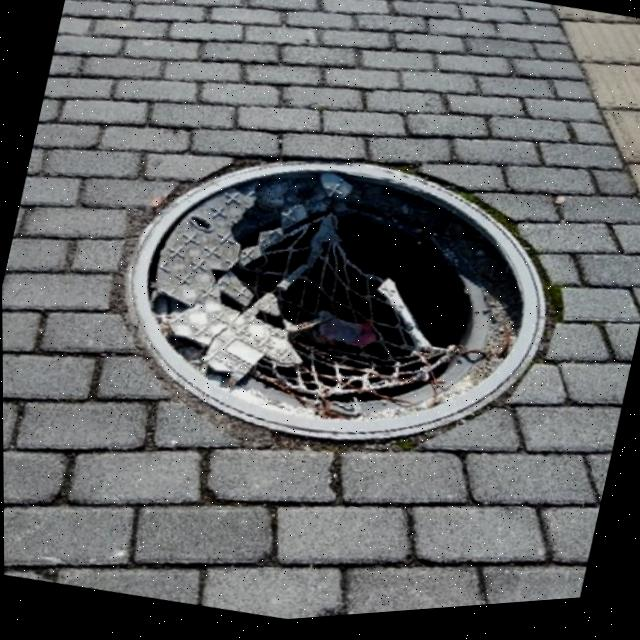manhole: (94, 103, 583, 507)
